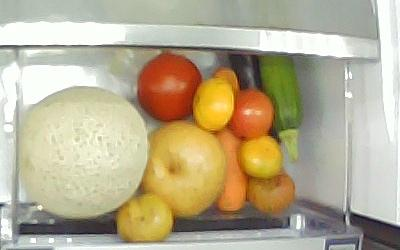carrot: (211, 65, 246, 212)
eggplant: (228, 51, 282, 145)
melon: (19, 84, 148, 219)
pear: (140, 119, 227, 217)
prune: (115, 193, 174, 243), (226, 87, 275, 139), (246, 169, 295, 214)
tangerine: (191, 76, 234, 130), (236, 134, 283, 178)
tomato: (136, 52, 202, 121)
zucchini: (258, 54, 303, 162)
